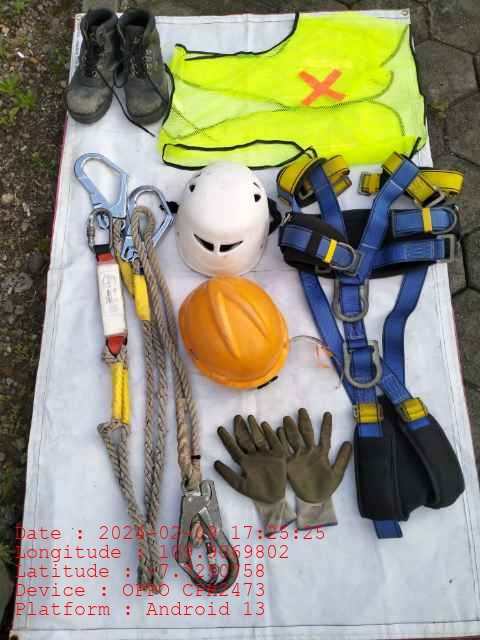HELM: (178, 275, 290, 388), (175, 161, 269, 276)
ROMPI: (167, 12, 425, 163)
SARUNG_TANGAN: (214, 415, 294, 535), (285, 408, 350, 532)
SEPATU: (66, 9, 168, 123)
